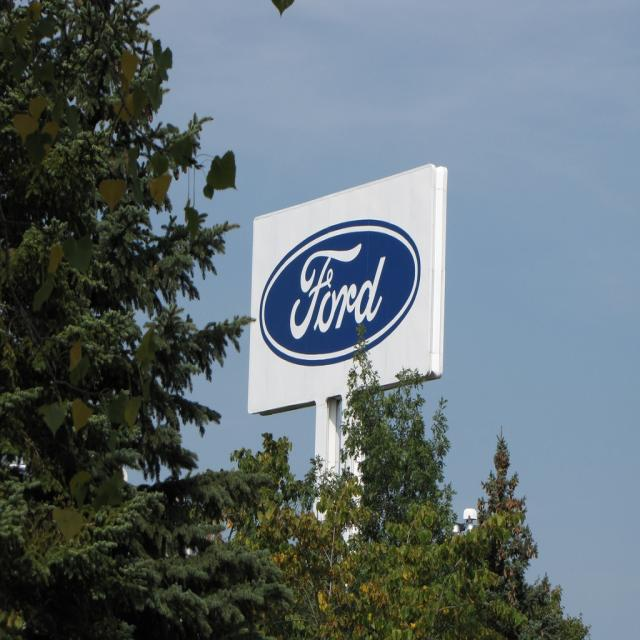ford: (258, 217, 425, 371)
